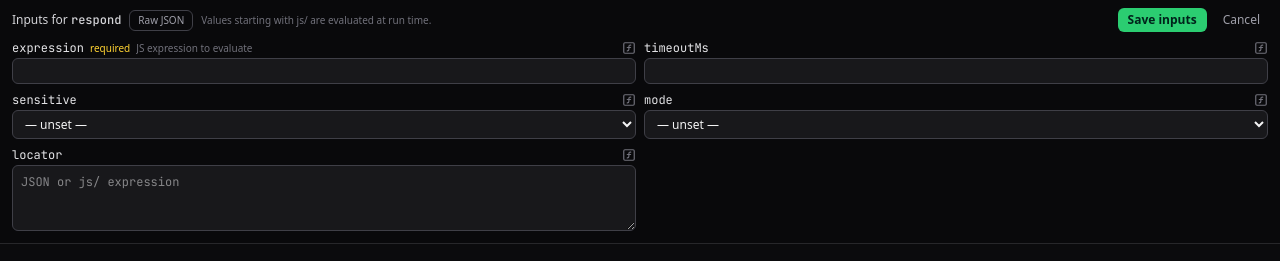
Test: upstream picker › closes on Escape
This screenshot has width=1280, height=261.
Click the button titled "Insert a value from an upstream step" in the row of "JS expression to evaluate" at (629, 48), box 622,41 -> 636,55
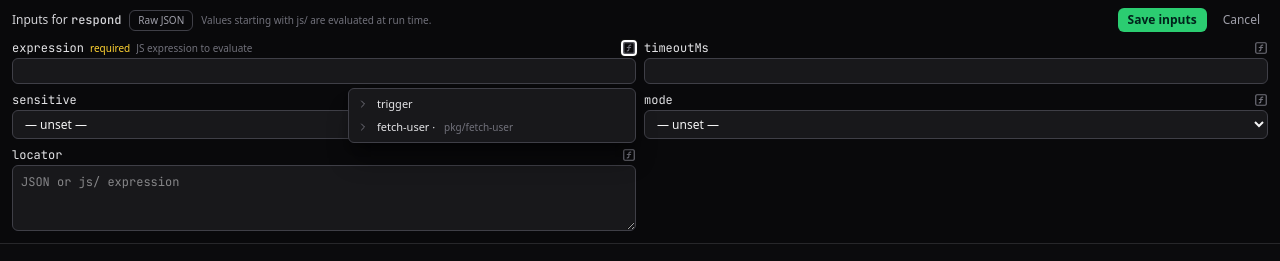
Now the menu is shown, box 348,88 -> 636,143
Press Escape
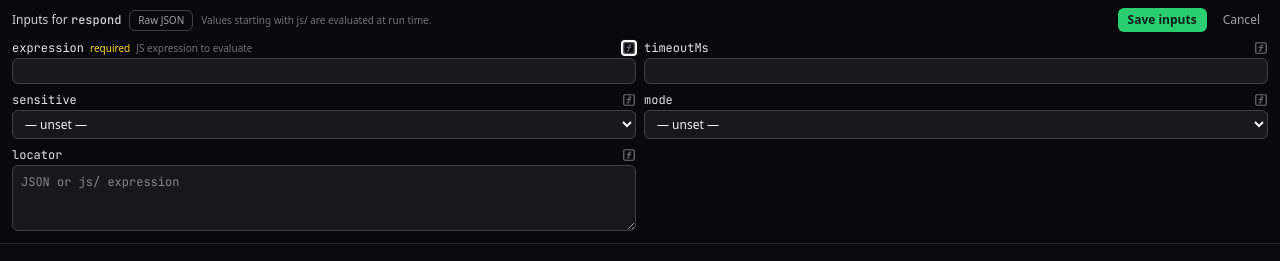
Now the menu is gone
